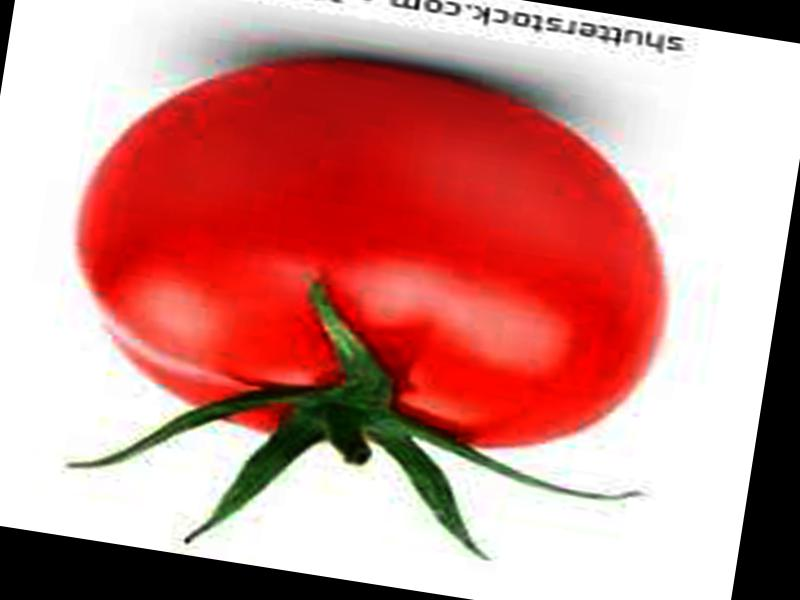Tomato: (50, 26, 693, 486)
